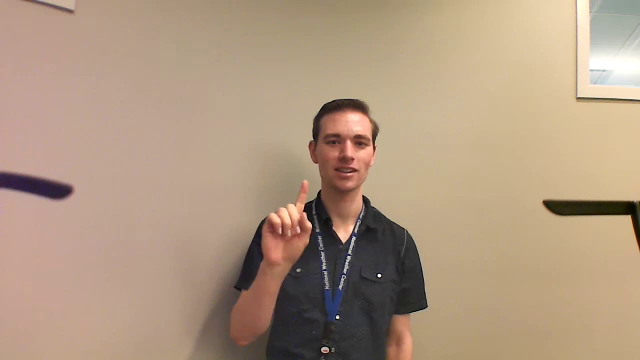up: (252, 178, 321, 273)
